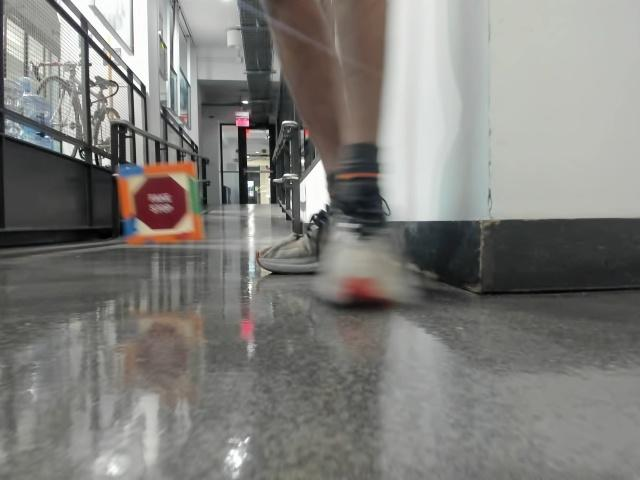Fake Stop: (130, 179, 184, 233)
